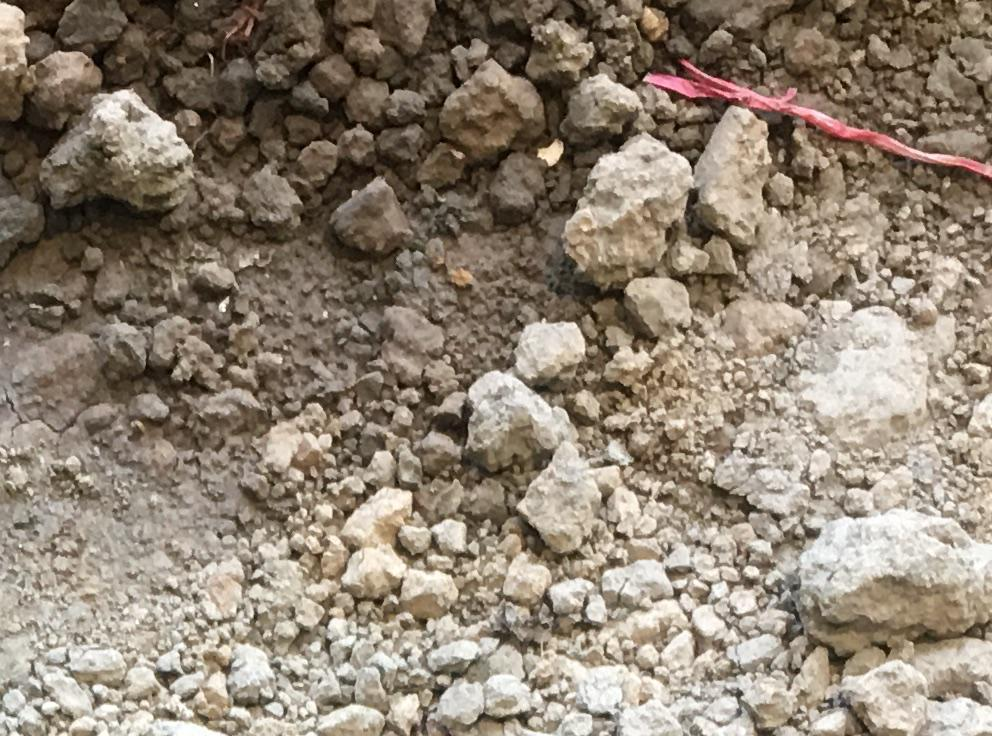block: (803, 507, 992, 647), (34, 87, 187, 222), (561, 125, 682, 295), (454, 368, 573, 474), (694, 99, 771, 248), (437, 59, 544, 156), (520, 442, 602, 554), (325, 175, 410, 254)
